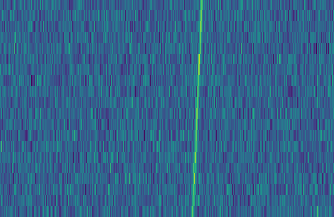signal: (188, 0, 206, 217)
